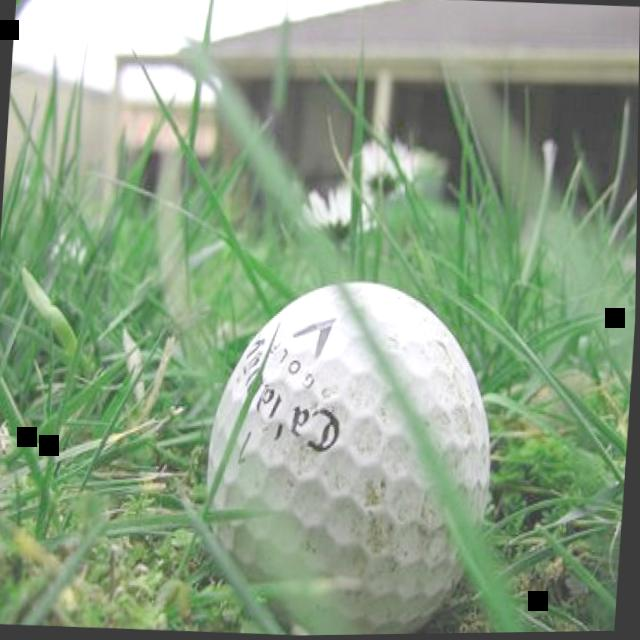golf ball: (168, 259, 517, 638)
